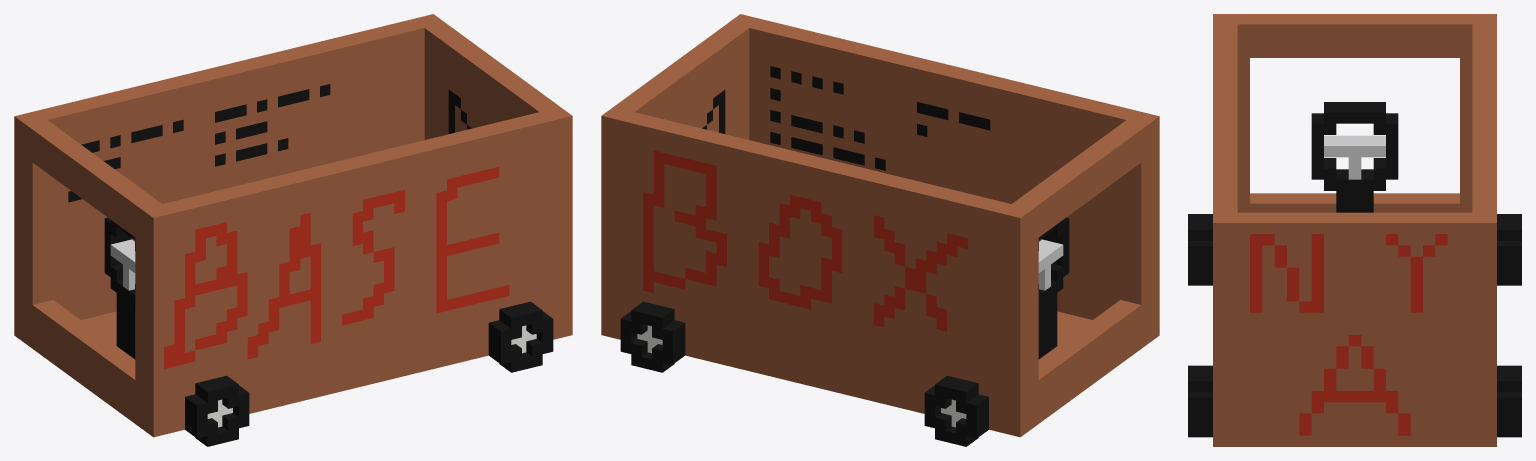
File: BoxForCats.obj
The picture shows the model from 3 angles, left to right: view 1: azimuth 30°, elevation 25°; view 2: azimuth 150°, elevation 25°; view 3: azimuth 270°, elevation 25°; orthographic projection. The views are drawn at different scales.
Bounding box in the file's own units: 4 × 2.1 × 2.7.
Materials: 1 (1 with a texture image).
